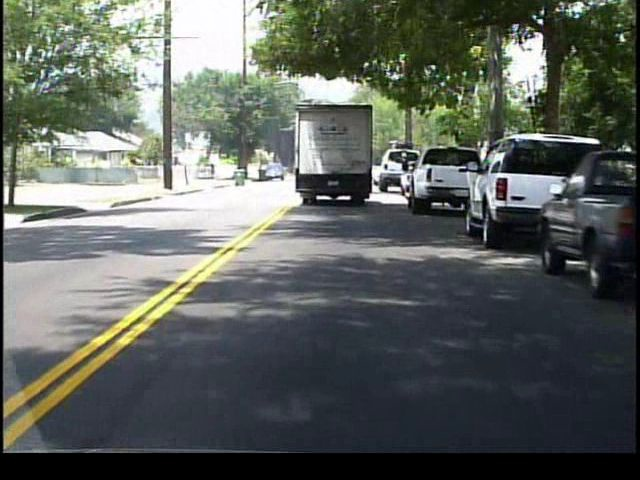person: (210, 161, 219, 182)
